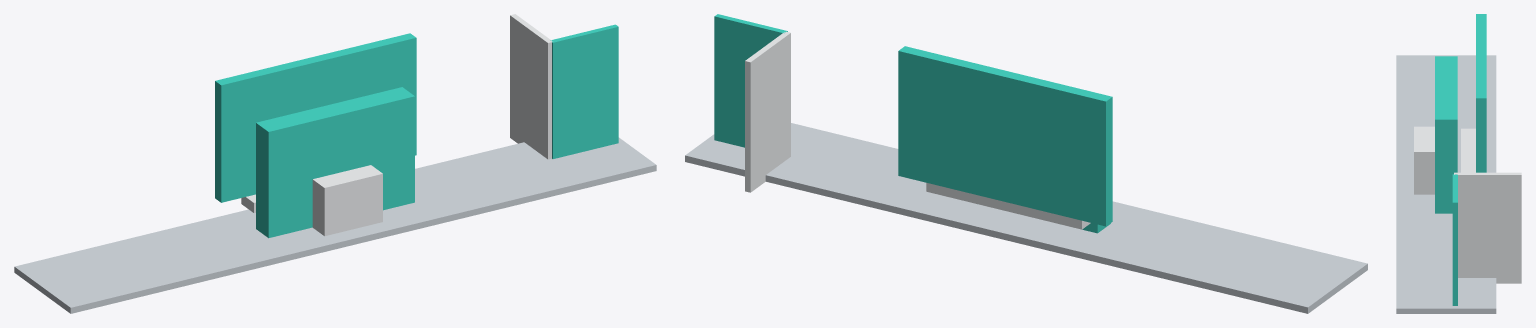
The picture shows the model from 3 angles, left to right: view 1: azimuth 30°, elevation 25°; view 2: azimuth 150°, elevation 25°; view 3: azimuth 270°, elevation 25°; orthographic projection. The views are drawn at different scales.
Parts seen in each view (by area): view 1: Exhibition Booth Concept; view 2: Exhibition Booth Concept; view 3: Exhibition Booth Concept.
Part boxes in pixels (bbox=[...]): Exhibition Booth Concept: bbox=[14, 14, 656, 313]; Exhibition Booth Concept: bbox=[685, 14, 1367, 313]; Exhibition Booth Concept: bbox=[1396, 14, 1521, 313].
Bounding box in the file's own units: 12 × 2.9 × 2.5.
